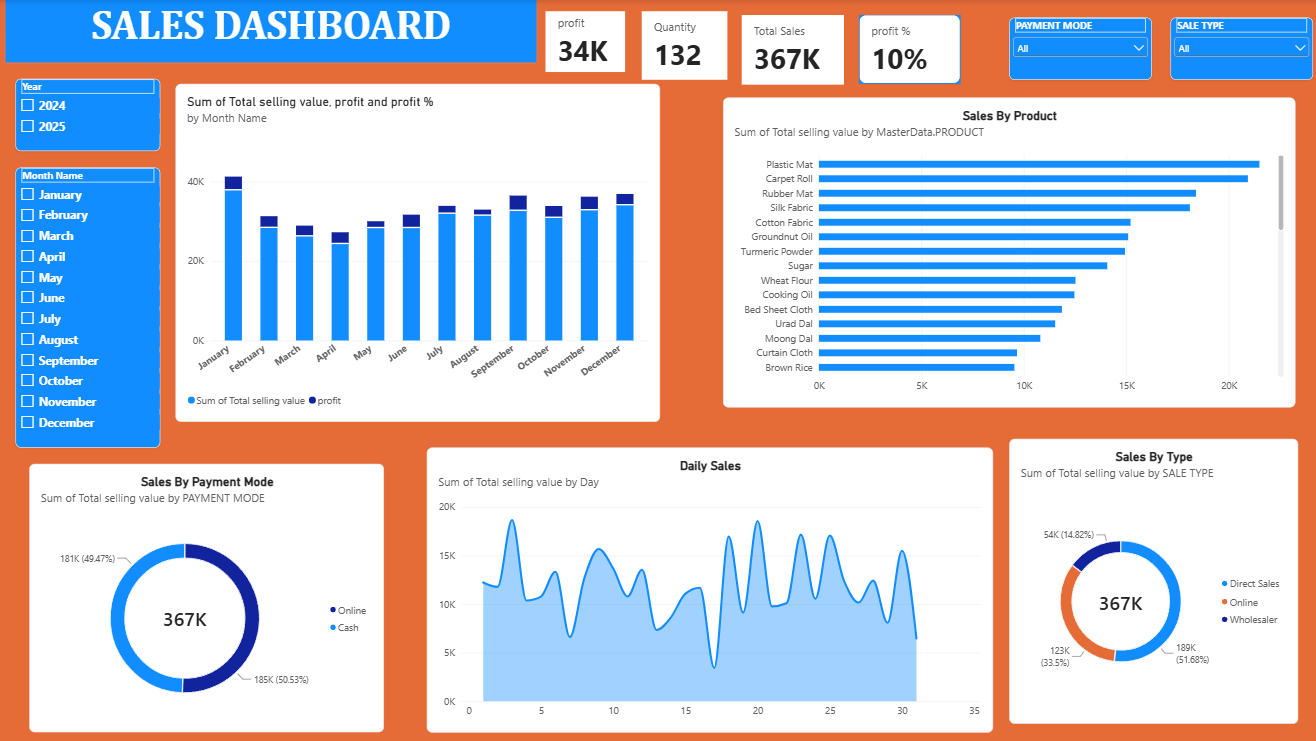

What the dashboard file says about the page in this screenshot:
{"tool":"powerbi","page":{"name":"Page 1","canvas":[1920,1080],"ordinal":0},"visuals":[{"type":"textbox","box":[10.9,0,769.1,90.5],"z":0},{"type":"slicer","fields":{"Values":["InputData.Year"]},"box":[25.3,114,209.9,105],"z":1000},{"type":"slicer","fields":{"Values":["InputData.Month Name"]},"box":[25.3,242.5,209.9,405.4],"z":2000},{"type":"slicer","fields":{"Values":["InputData.SALE TYPE"]},"box":[1697.5,25.3,206.3,90.5],"z":3000},{"type":"slicer","fields":{"Values":["InputData.PAYMENT MODE"]},"box":[1464,25.3,206.3,90.5],"z":4000},{"type":"cardVisual","fields":{"Data":["Sum(InputData.Total selling value)"]},"box":[1076.7,21.7,148.4,101.3],"z":5000},{"type":"cardVisual","fields":{"Data":["InputData.profit %"]},"box":[1246.9,21.7,146.6,99.5],"z":6000},{"type":"cardVisual","fields":{"Data":["Sum(InputData.QUANTITY)"]},"box":[932,16.3,124.9,99.5],"z":7000},{"type":"cardVisual","fields":{"Data":["InputData.profit"]},"box":[792.6,16.3,115.8,88.7],"z":8000},{"type":"columnChart","fields":{"Category":["InputData.Month Name"],"Y":["Sum(InputData.Total selling value)","InputData.profit"]},"box":[257,121.2,701.9,489.9],"z":9000},{"type":"areaChart","title":"Daily Sales","fields":{"Category":["InputData.Day"],"Y":["Sum(InputData.Total selling value)"]},"box":[620.7,647.9,819.8,412.6],"z":10000},{"type":"clusteredBarChart","title":"Sales By Product","fields":{"Category":["InputData.MasterData.PRODUCT"],"Y":["Sum(InputData.Total selling value)"]},"box":[1049.6,141.2,828.8,448.8],"z":11000},{"type":"donutChart","title":"Sales By Type","fields":{"Category":["InputData.SALE TYPE"],"Y":["Sum(InputData.Total selling value)"]},"box":[1464,635.2,418,412.6],"z":11001},{"type":"donutChart","title":"Sales By Payment Mode","fields":{"Category":["InputData.PAYMENT MODE"],"Y":["Sum(InputData.Total selling value)"]},"box":[45.2,671.4,513.9,389.1],"z":11002}]}

Visuals, with their boxes in screenshot pixels (x1, y1, x2, y2), scaled from the page's 1920x1080 canvas onto the 1316x741 screenshot:
textbox: {"x1": 7, "y1": 0, "x2": 535, "y2": 62}
slicer - InputData.Year: {"x1": 17, "y1": 78, "x2": 161, "y2": 150}
slicer - InputData.Month Name: {"x1": 17, "y1": 166, "x2": 161, "y2": 445}
slicer - InputData.SALE TYPE: {"x1": 1163, "y1": 17, "x2": 1305, "y2": 79}
slicer - InputData.PAYMENT MODE: {"x1": 1003, "y1": 17, "x2": 1145, "y2": 79}
cardVisual - Sum(InputData.Total selling value): {"x1": 738, "y1": 15, "x2": 840, "y2": 84}
cardVisual - InputData.profit %: {"x1": 855, "y1": 15, "x2": 955, "y2": 83}
cardVisual - Sum(InputData.QUANTITY): {"x1": 639, "y1": 11, "x2": 724, "y2": 79}
cardVisual - InputData.profit: {"x1": 543, "y1": 11, "x2": 623, "y2": 72}
columnChart - InputData.Month Name x Sum(InputData.Total selling value): {"x1": 176, "y1": 83, "x2": 657, "y2": 419}
"Daily Sales" areaChart: {"x1": 425, "y1": 445, "x2": 987, "y2": 728}
"Sales By Product" clusteredBarChart: {"x1": 719, "y1": 97, "x2": 1287, "y2": 405}
"Sales By Type" donutChart: {"x1": 1003, "y1": 436, "x2": 1290, "y2": 719}
"Sales By Payment Mode" donutChart: {"x1": 31, "y1": 461, "x2": 383, "y2": 728}
